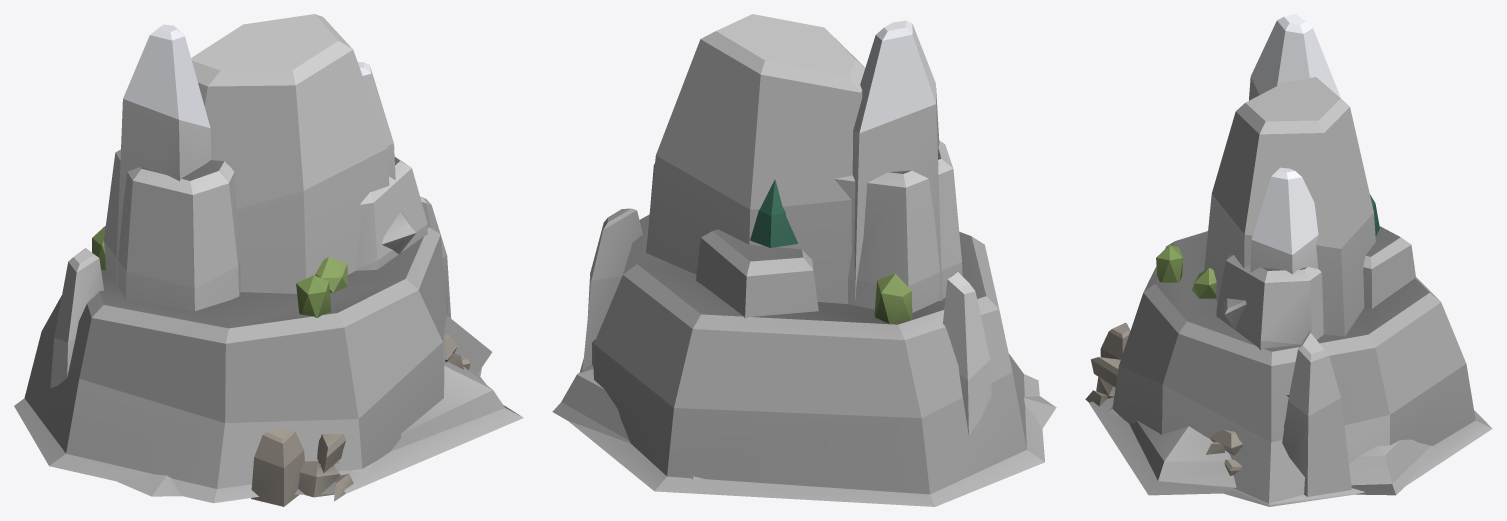
File: crag-fallen-1.glb
3 renders of one model, left to right at view 1: azimuth 30°, elevation 25°; view 2: azimuth 150°, elevation 25°; view 3: azimuth 270°, elevation 25°, orthographic. The views are drawn at different scales.
Parts seen in each view (by area): view 1: SaddleBase, SaddleBlock, CragPeakL, CragSummitL, CragBase, CragPeakR, CragRib1, SaddleScree3, SaddleShrub1, CragScree2, CragSummitR, CragScree1 (+3 smaller); view 2: SaddleBase, SaddleBlock, CragSummitL, CragPeakL, CragBack, CragRib1, CragRib2, CragBase, CragPine8, SaddleShrub2; view 3: SaddleBase, SaddleBlock, CragBase, CragRib2, CragPeakR, CragSummitR, CragSummitL, CragBack, SaddleShrub1, SaddleScree3, CragScree1, CragCrown6 (+2 smaller).
Part boxes in pixels (x1,y1,x2,y2): SaddleBase: [14, 227, 492, 503]; SaddleBlock: [191, 14, 389, 293]; CragPeakL: [104, 149, 240, 311]; CragSummitL: [115, 24, 211, 287]; CragBase: [117, 361, 523, 496]; CragPeakR: [355, 156, 427, 270]; CragRib1: [50, 248, 103, 388]; SaddleScree3: [251, 427, 304, 506]; SaddleShrub1: [296, 275, 331, 317]; CragScree2: [298, 461, 340, 497]; CragSummitR: [358, 62, 395, 179]; CragScree1: [317, 434, 345, 472]; SaddleBase: [568, 214, 1044, 506]; SaddleBlock: [646, 14, 865, 303]; CragSummitL: [852, 20, 942, 300]; CragPeakL: [834, 140, 962, 312]; CragBack: [696, 229, 818, 318]; CragRib1: [943, 272, 991, 435]; CragRib2: [582, 208, 642, 370]; CragBase: [552, 365, 1056, 480]; CragPine8: [750, 179, 798, 247]; SaddleShrub2: [874, 273, 912, 323]; SaddleBase: [1108, 231, 1492, 506]; SaddleBlock: [1204, 77, 1375, 336]; CragBase: [1089, 397, 1432, 495]; CragRib2: [1282, 331, 1351, 496]; CragPeakR: [1216, 255, 1323, 349]; CragSummitR: [1250, 167, 1318, 274]; CragSummitL: [1249, 14, 1340, 100]; CragBack: [1363, 226, 1416, 308]; SaddleShrub1: [1156, 245, 1182, 282]; SaddleScree3: [1100, 322, 1130, 359]; CragScree1: [1091, 357, 1120, 387]; CragCrown6: [1192, 268, 1216, 298].
Size of the model in its own units: 1.88 by 1.67 by 1.68.
